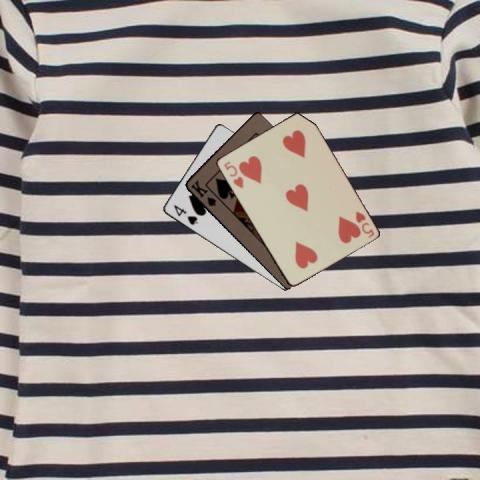4s: (170, 201, 199, 227)
5h: (220, 158, 244, 190), (352, 208, 375, 239)
Ks: (188, 177, 218, 208)
